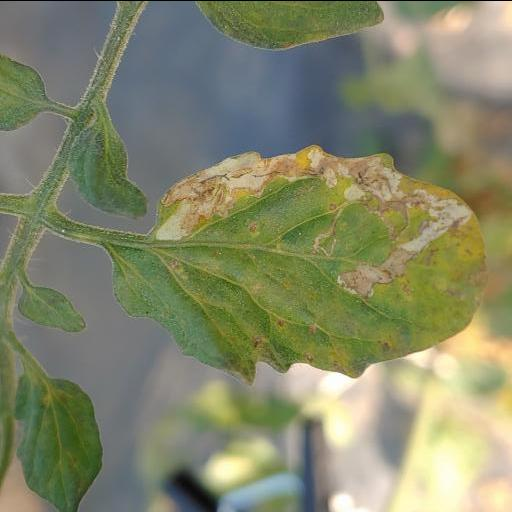Leaf Miner: (104, 144, 487, 386)
